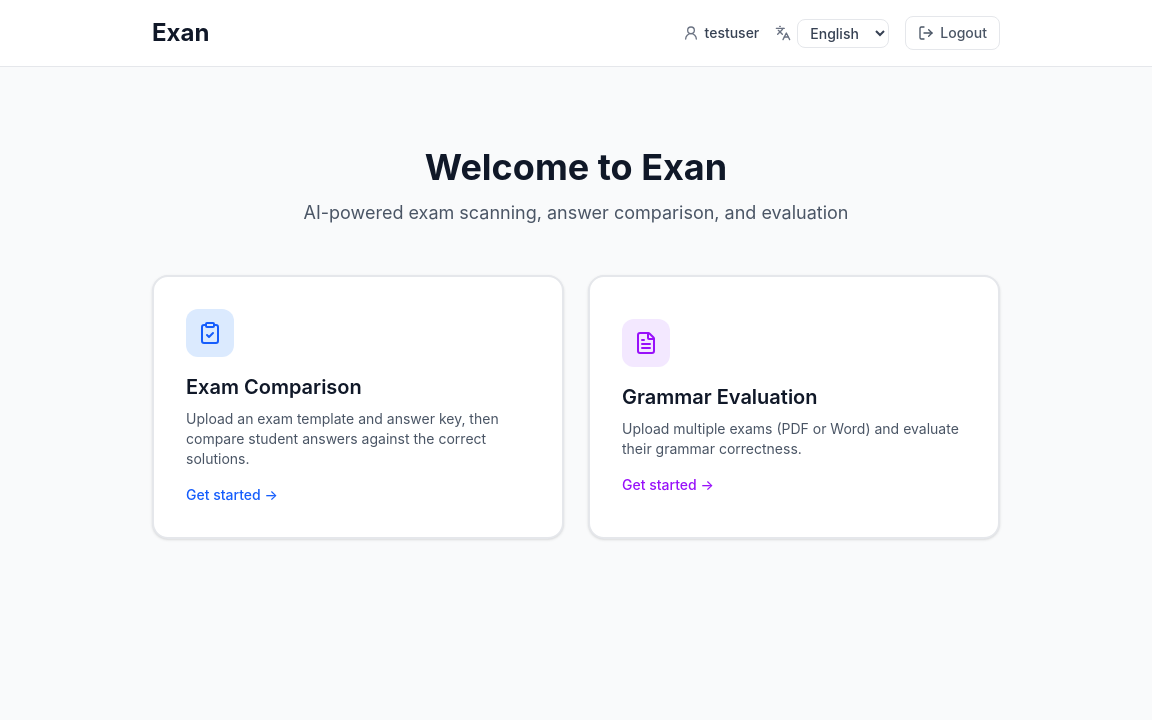
Test case: App › when authenticated › navigates to grammar evaluation when clicked
Click the heading "Grammar Evaluation": (720, 397) 622,385 -> 818,409
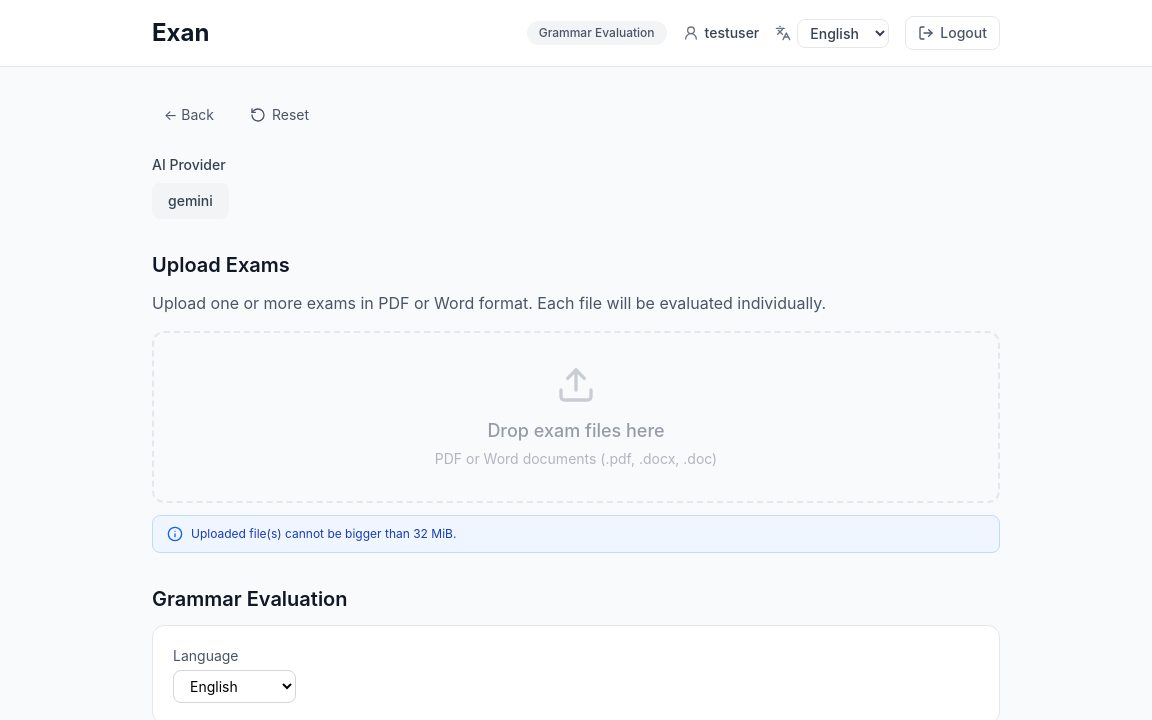
Expected: the heading "Upload Exams" is shown, 152,253 -> 290,277
Expected: the heading "Grammar Evaluation" is shown, 152,587 -> 348,611
